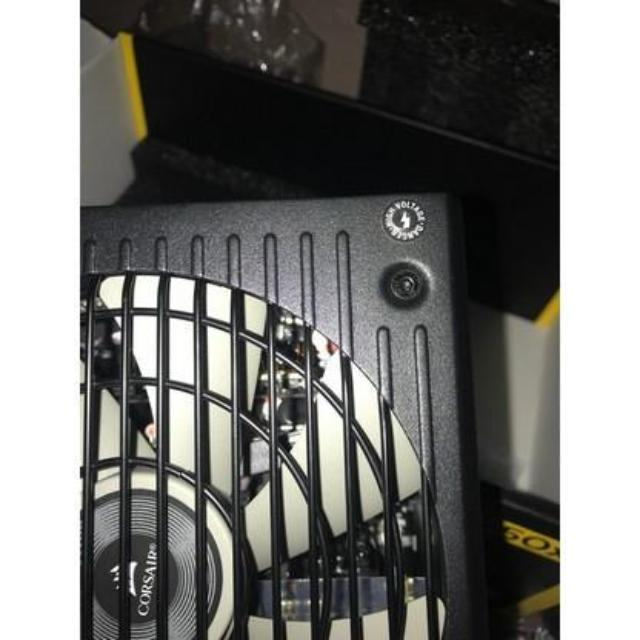PSU: (79, 198, 499, 640)
